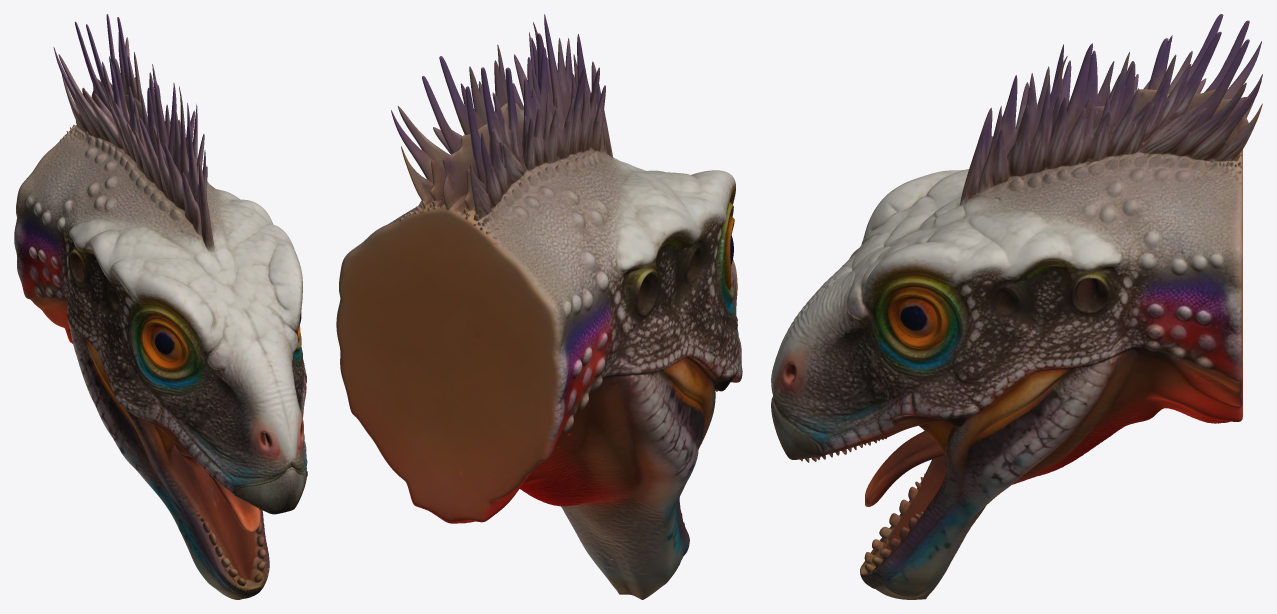
Rendered from modelo.draco.glb.
3 renders of one model, left to right at view 1: azimuth 30°, elevation 25°; view 2: azimuth 150°, elevation 25°; view 3: azimuth 270°, elevation 25°, orthographic. The views are drawn at different scales.
Visible parts, largest first — view 1: material; view 2: material; view 3: material.
Boxes of the visible parts, x1=… form: material: x1=14, y1=14, x2=307, y2=599; material: x1=336, y1=14, x2=742, y2=599; material: x1=771, y1=14, x2=1262, y2=599.
Bounding box in the file's own units: 0.3914 × 0.9824 × 0.7646.
1 material, 1 textured.
